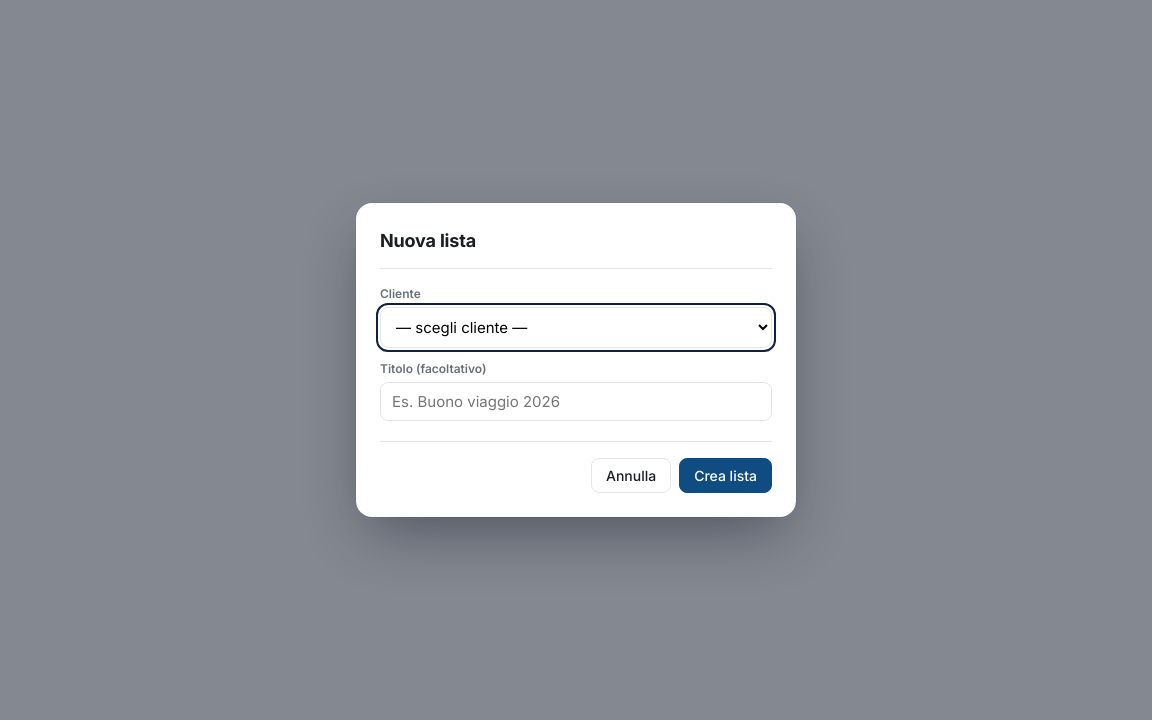
Test: NuovaListaModal — cliente e nome del nuovo cliente, un campo alla volta › nessun cliente scelto: l'avviso è sul select, non su un toast
Click the button "Crea lista" at [726, 476], box [679, 458, 772, 493]
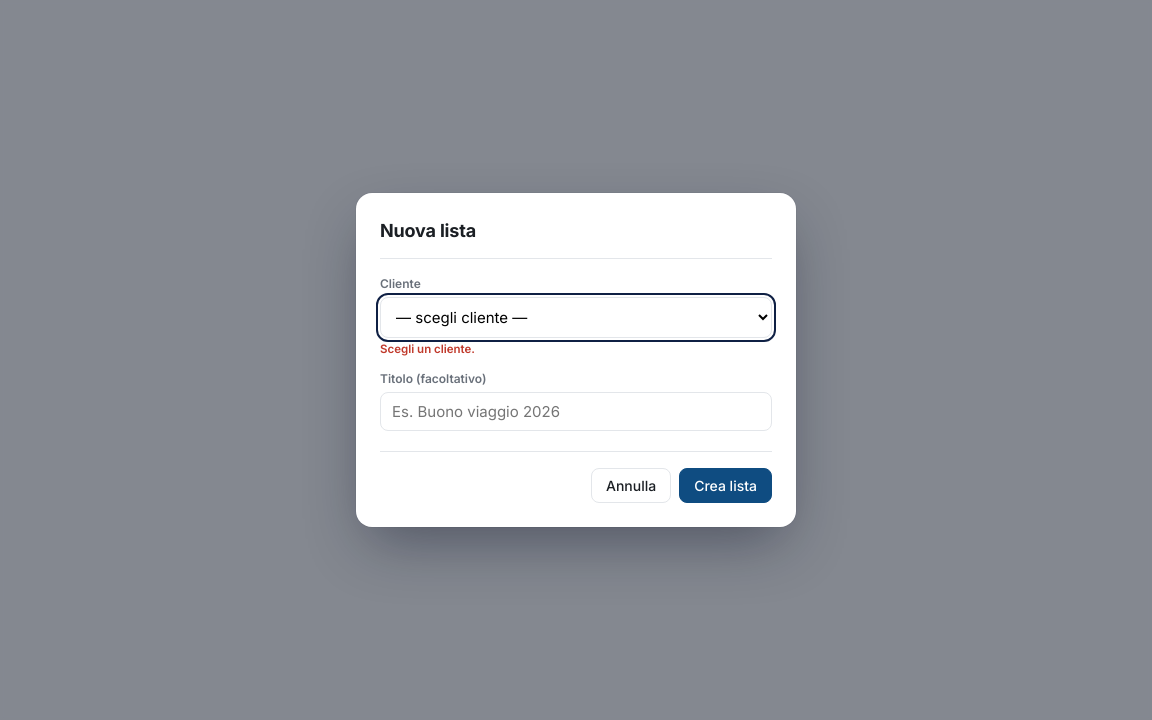
Check: the message shows "Scegli un cliente", box [380, 342, 475, 356]
